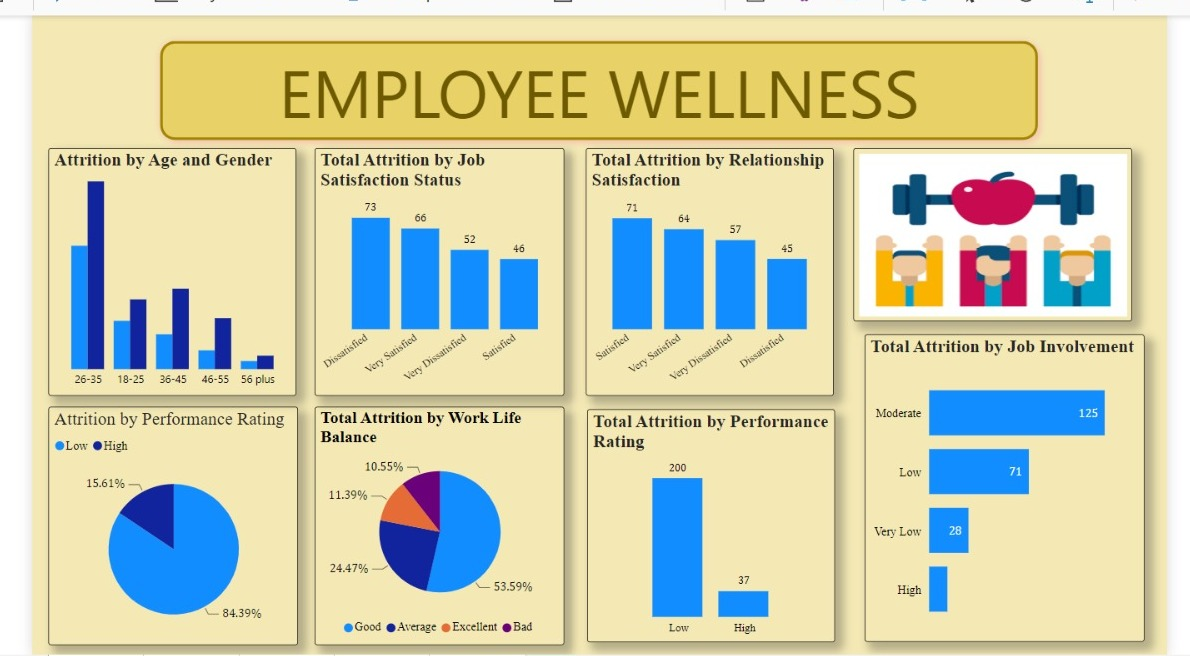

This screenshot's page, from the dashboard's own definition file:
{"tool":"powerbi","page":{"name":"Page 5","canvas":[1280,720],"ordinal":4},"visuals":[{"type":"clusteredColumnChart","title":"Attrition by Age and Gender","fields":{"Category":["HR-Employee-Attrition.Age Bucket"],"Y":["All Measure.Total Attritation"],"Series":["HR-Employee-Attrition.Gender"]},"box":[18.7,149.9,279.6,279.6],"z":0},{"type":"pieChart","title":"Attrition by Performance Rating","fields":{"Category":["HR-Employee-Attrition.PerformanceRating (groups)"],"Y":["All Measure.Total Attritation"]},"box":[18.7,440.4,281.1,268.6],"z":1000},{"type":"shape","box":[135.9,20.3,1007.4,129.6],"z":1001},{"type":"clusteredColumnChart","title":"Total Attrition by Job Satisfaction Status","fields":{"Category":["HR-Employee-Attrition.Job Satisfaction Status"],"Y":["All Measure.Total Attritation"]},"box":[318.6,149.9,281.1,279.6],"z":1002},{"type":"clusteredColumnChart","title":"Total Attrition by Relationship Satisfaction","fields":{"Category":["HR-Employee-Attrition.RelationshipSatisfaction (groups)"],"Y":["All Measure.Total Attritation"]},"box":[624.7,149.9,279.6,279.6],"z":1003},{"type":"barChart","title":"Total Attrition by Job Involvement","fields":{"Category":["HR-Employee-Attrition.JobInvolvement (groups)"],"Y":["All Measure.Total Attritation"]},"box":[938.7,359.2,315.5,346.7],"z":1004},{"type":"pieChart","title":"Total Attrition by Work Life Balance","fields":{"Category":["HR-Employee-Attrition.WorkLifeBalance (groups)"],"Y":["All Measure.Total Attritation"]},"box":[318.6,440.4,281.1,268.6],"z":1005},{"type":"clusteredColumnChart","title":"Total Attrition by Performance Rating","fields":{"Category":["HR-Employee-Attrition.PerformanceRating (groups)"],"Y":["All Measure.Total Attritation"]},"box":[626.3,443.6,279.6,262.4],"z":1006},{"type":"image","box":[926.2,149.9,313.9,195.2],"z":1007}]}

Visuals, with their boxes on the page's 1280x720 design canvas (x1, y1, x2, y2). These are canvas units, not pixel positions in the 1190x656 screenshot, which may show the page scaled, cropped or inside an application window:
"Attrition by Age and Gender" clusteredColumnChart: bbox(19, 150, 298, 430)
"Attrition by Performance Rating" pieChart: bbox(19, 440, 300, 709)
shape: bbox(136, 20, 1143, 150)
"Total Attrition by Job Satisfaction Status" clusteredColumnChart: bbox(319, 150, 600, 430)
"Total Attrition by Relationship Satisfaction" clusteredColumnChart: bbox(625, 150, 904, 430)
"Total Attrition by Job Involvement" barChart: bbox(939, 359, 1254, 706)
"Total Attrition by Work Life Balance" pieChart: bbox(319, 440, 600, 709)
"Total Attrition by Performance Rating" clusteredColumnChart: bbox(626, 444, 906, 706)
image: bbox(926, 150, 1240, 345)
